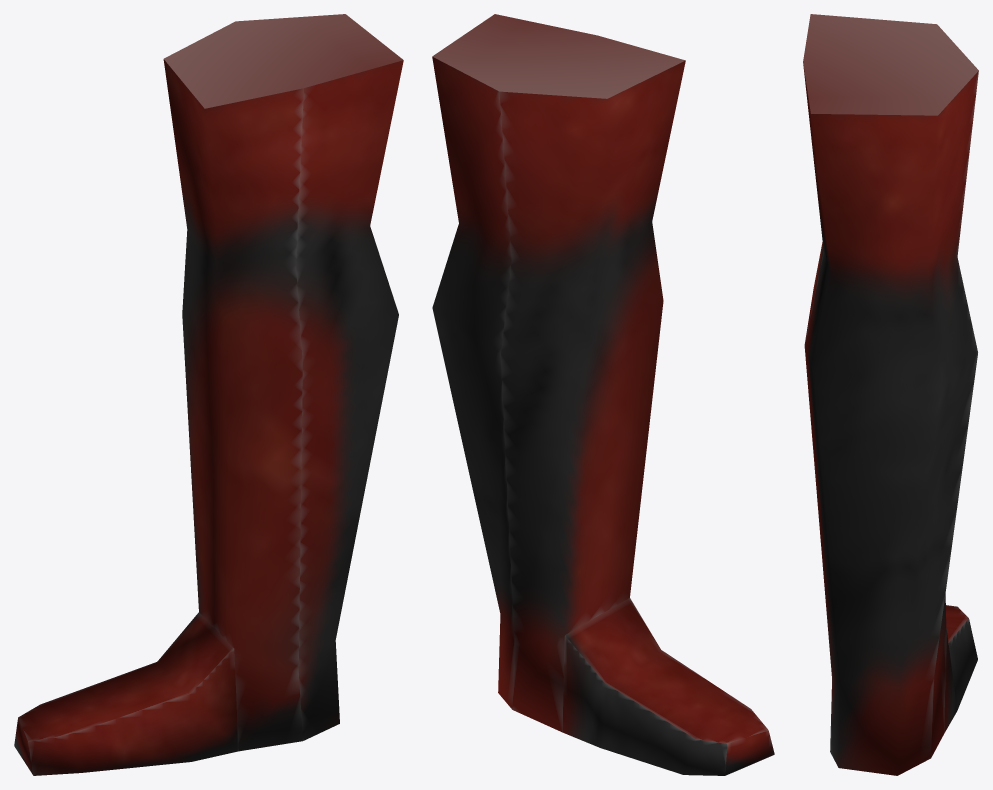
Rendered from Leg2.fbx.
3 renders of one model, left to right at view 1: azimuth 30°, elevation 25°; view 2: azimuth 150°, elevation 25°; view 3: azimuth 270°, elevation 25°, orthographic. The views are drawn at different scales.
Parts seen in each view (by area): view 1: Cube.076; view 2: Cube.076; view 3: Cube.076.
Boxes of the visible parts, x1=… form: Cube.076: x1=14, y1=14, x2=403, y2=775; Cube.076: x1=432, y1=14, x2=774, y2=775; Cube.076: x1=803, y1=14, x2=978, y2=775.
Size of the model in its own units: 175 by 334 by 77.31.
